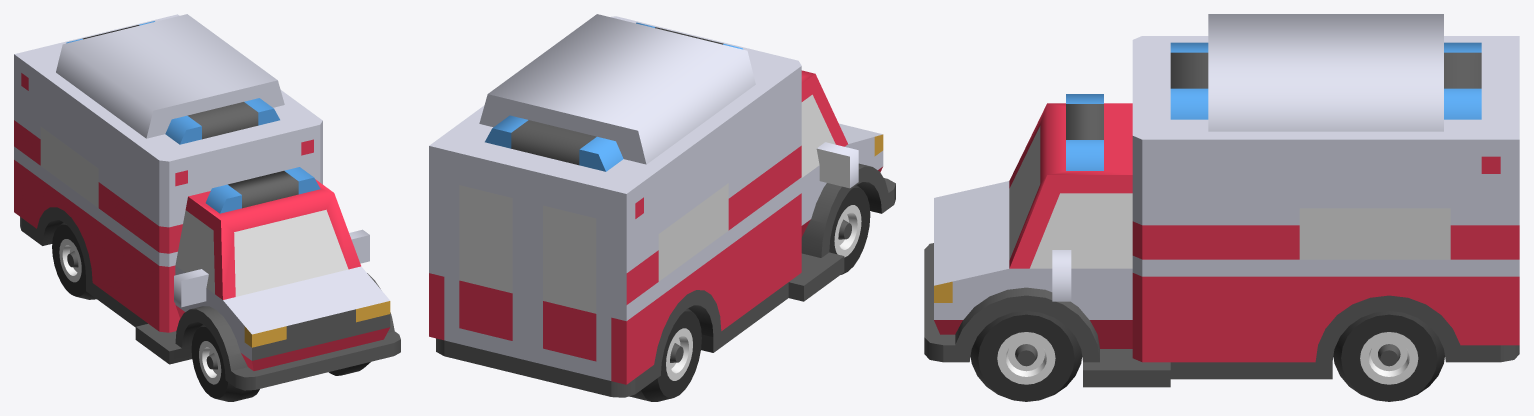
The model's file is ambulance.glb.
3 views of the same model, side by side, from view 1: azimuth 30°, elevation 25°; view 2: azimuth 150°, elevation 25°; view 3: azimuth 270°, elevation 25° (orthographic). The views are drawn at different scales.
Visible parts, largest first — view 1: body, wheel_frontRight, wheel_backRight; view 2: body, doorRight, doorLeft, wheel_backRight, wheel_frontRight; view 3: body, wheel_backLeft, wheel_frontLeft.
Part boxes in pixels (x1=…): body: x1=14, y1=14, x2=400, y2=390; wheel_frontRight: x1=191, y1=324, x2=259, y2=401; wheel_backRight: x1=52, y1=222, x2=96, y2=299; body: x1=429, y1=14, x2=895, y2=397; doorRight: x1=527, y1=186, x2=611, y2=380; doorLeft: x1=444, y1=165, x2=527, y2=360; wheel_backRight: x1=629, y1=308, x2=701, y2=401; wheel_frontRight: x1=829, y1=185, x2=870, y2=274; body: x1=924, y1=14, x2=1519, y2=387; wheel_backLeft: x1=1333, y1=311, x2=1444, y2=401; wheel_frontLeft: x1=970, y1=311, x2=1082, y2=401.
Size of the model in its own units: 1.5 by 1.8 by 3.15.
